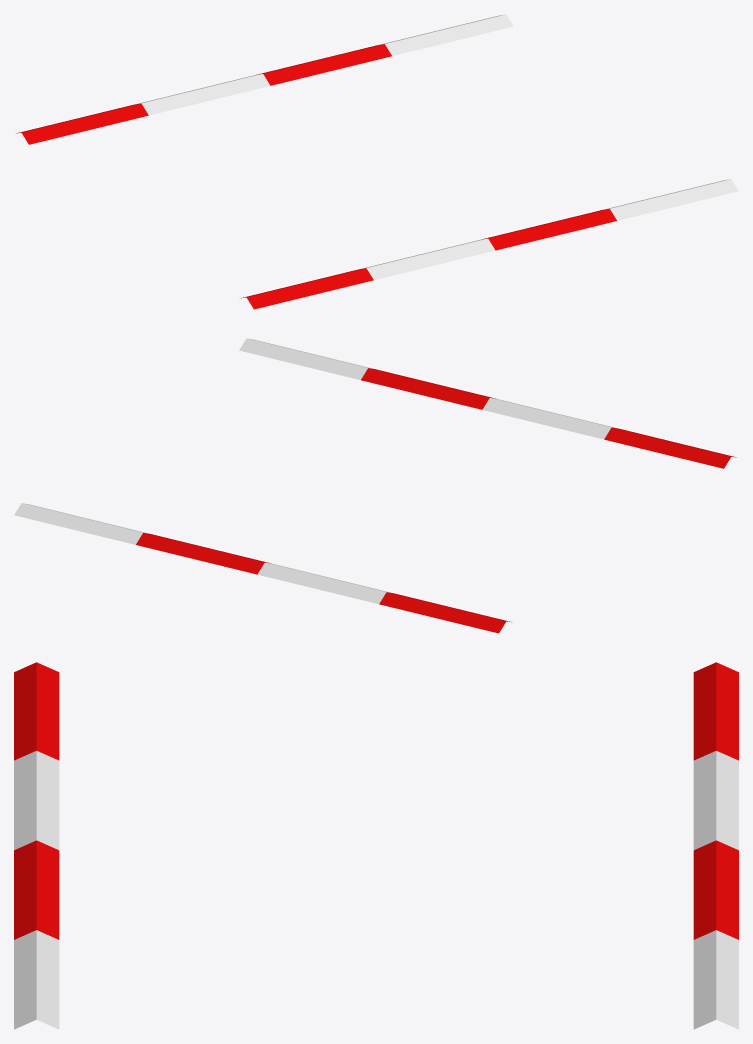
The model's file is Road_straight_short.fbx.
The picture shows the model from 3 angles, top to bottom: view 1: azimuth 30°, elevation 25°; view 2: azimuth 150°, elevation 25°; view 3: azimuth 270°, elevation 25°; orthographic projection. The views are drawn at different scales.
Parts seen in each view (by area): view 1: Road_straight_short; view 2: Road_straight_short; view 3: Road_straight_short.
Part boxes in pixels (bbox=[...]): Road_straight_short: bbox=[16, 14, 738, 309]; Road_straight_short: bbox=[14, 338, 736, 633]; Road_straight_short: bbox=[14, 662, 738, 1029].
Bounding box in the file's own units: 3.3 × 0.0432 × 2.83.
